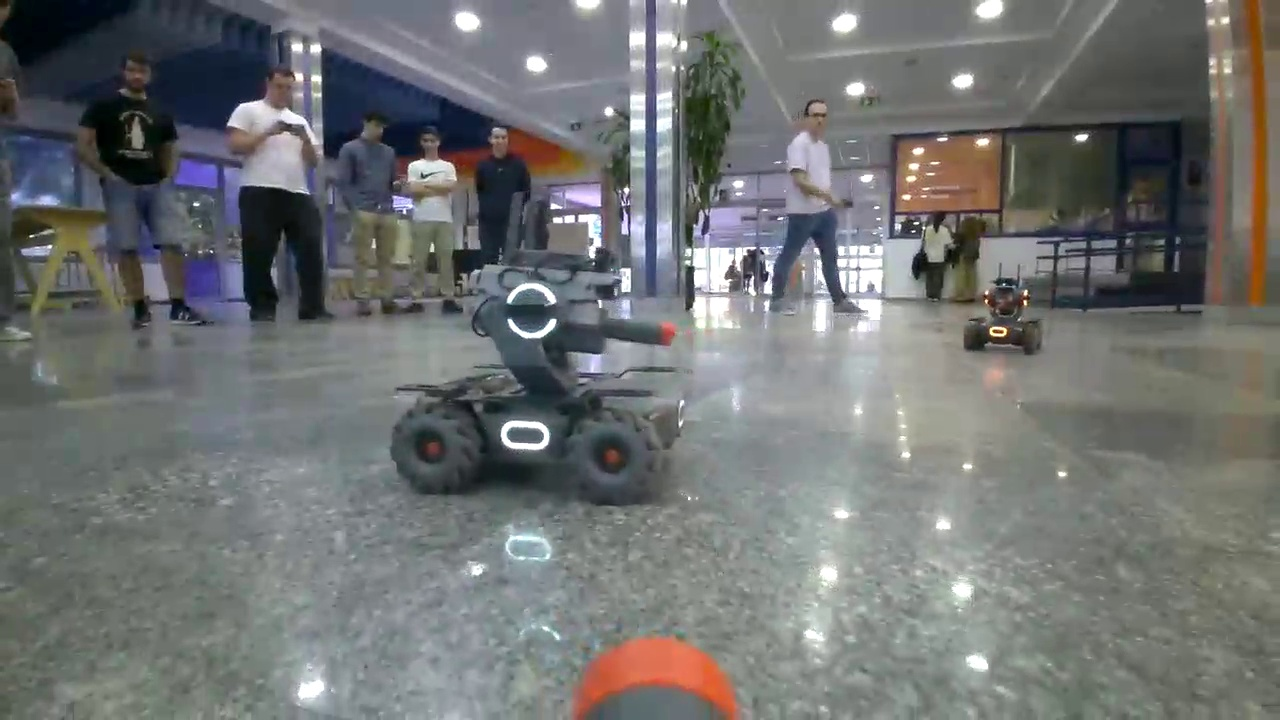robot: (388, 260, 680, 491), (964, 279, 1040, 354)
